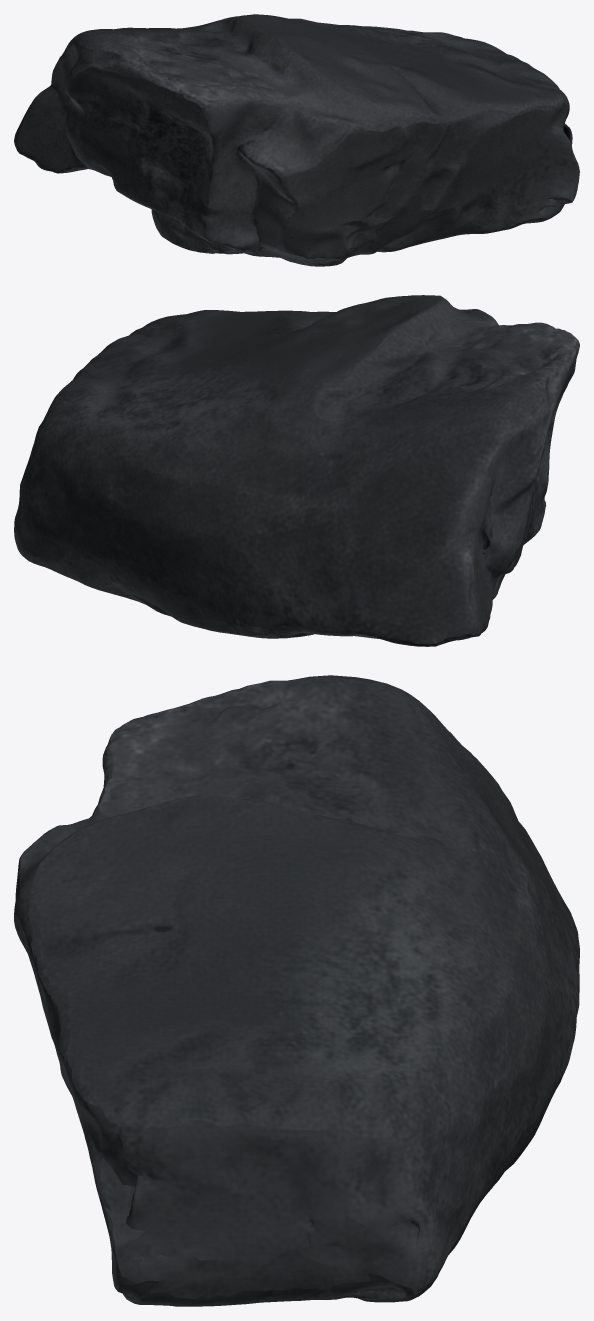
3 views of the same model, one above another, from view 1: azimuth 30°, elevation 25°; view 2: azimuth 150°, elevation 25°; view 3: azimuth 270°, elevation 25° (orthographic). The views are drawn at different scales.
Parts seen in each view (by area): view 1: world; view 2: world; view 3: world.
Part boxes in pixels (<box>): world: <box>14,14,579,266</box>; world: <box>14,295,579,646</box>; world: <box>14,675,579,1306</box>.
Size of the model in its own units: 3.5 by 1.76 by 2.62.
1 material, 1 textured.
